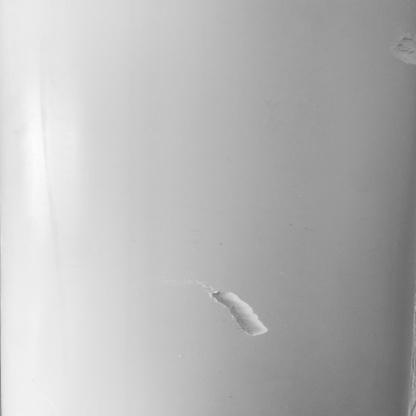sunshang: (214, 272, 276, 346)
